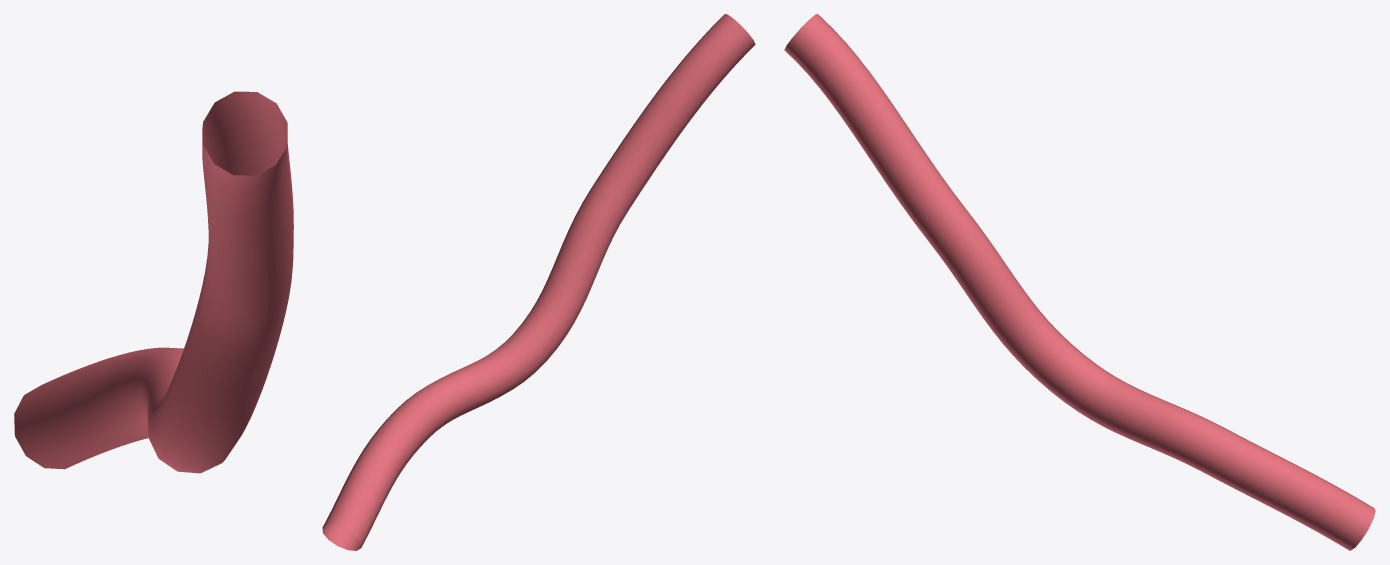
3 views of the same model, side by side, from view 1: azimuth 30°, elevation 25°; view 2: azimuth 150°, elevation 25°; view 3: azimuth 270°, elevation 25° (orthographic). The views are drawn at different scales.
Parts seen in each view (by area): view 1: ZA_54a6b2424cf9b66d; view 2: ZA_54a6b2424cf9b66d; view 3: ZA_54a6b2424cf9b66d.
Part boxes in pixels (bbox=[...]): ZA_54a6b2424cf9b66d: bbox=[14, 91, 293, 473]; ZA_54a6b2424cf9b66d: bbox=[322, 14, 755, 550]; ZA_54a6b2424cf9b66d: bbox=[784, 14, 1375, 550].
Bounding box in the file's own units: 0.00896 × 0.018 × 0.0214.
